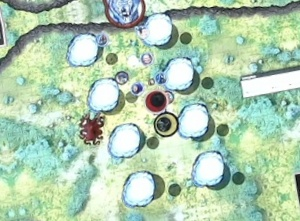giant_red_octopus: (75, 116, 102, 143)
lime_green_violet: (151, 110, 178, 137)
red: (142, 86, 169, 113)
